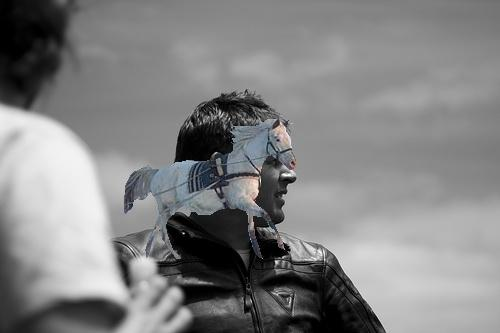tampered: (125, 120, 296, 259)
